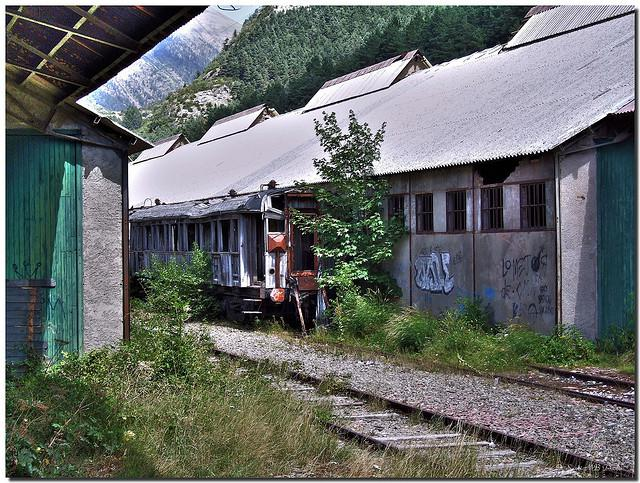Train: (128, 189, 330, 293)
